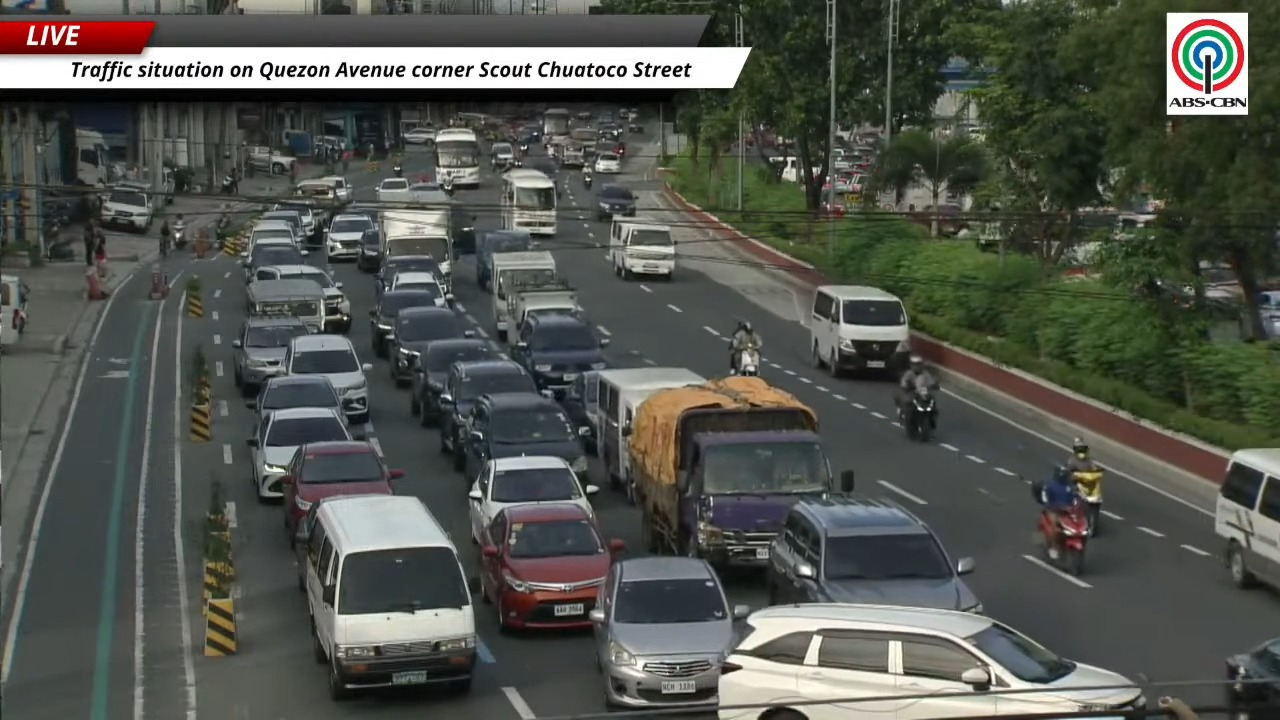bus: (500, 169, 557, 235), (433, 128, 480, 188), (543, 108, 571, 138)
car: (719, 603, 1146, 719), (765, 495, 982, 612), (588, 556, 748, 708), (479, 503, 624, 628), (454, 392, 588, 483), (283, 441, 403, 540), (468, 457, 598, 543), (246, 407, 352, 500), (437, 359, 537, 453), (410, 337, 500, 426), (510, 314, 608, 394), (284, 334, 371, 424), (388, 306, 473, 385), (254, 264, 351, 333), (232, 316, 308, 394), (370, 290, 438, 357), (1224, 638, 1279, 717), (246, 375, 342, 419), (476, 230, 532, 290), (560, 370, 599, 454), (242, 240, 307, 284), (375, 256, 442, 297), (100, 185, 153, 232), (389, 271, 452, 306), (325, 214, 373, 259), (272, 201, 319, 243), (248, 219, 300, 247), (596, 184, 635, 220), (261, 209, 302, 237), (356, 228, 381, 272), (320, 176, 353, 204), (375, 177, 409, 201), (490, 142, 519, 169), (402, 126, 436, 145), (594, 153, 621, 174), (596, 137, 622, 156)
motorcycle: (1037, 501, 1088, 576), (1072, 469, 1103, 536), (900, 388, 936, 441), (731, 346, 759, 376), (172, 222, 186, 248), (220, 174, 236, 193), (582, 171, 592, 188), (393, 164, 402, 177), (519, 143, 528, 152)
truck: (622, 377, 853, 566), (491, 250, 558, 341), (379, 209, 453, 289), (608, 218, 675, 279), (508, 279, 583, 327), (73, 128, 112, 188), (247, 146, 296, 174)
